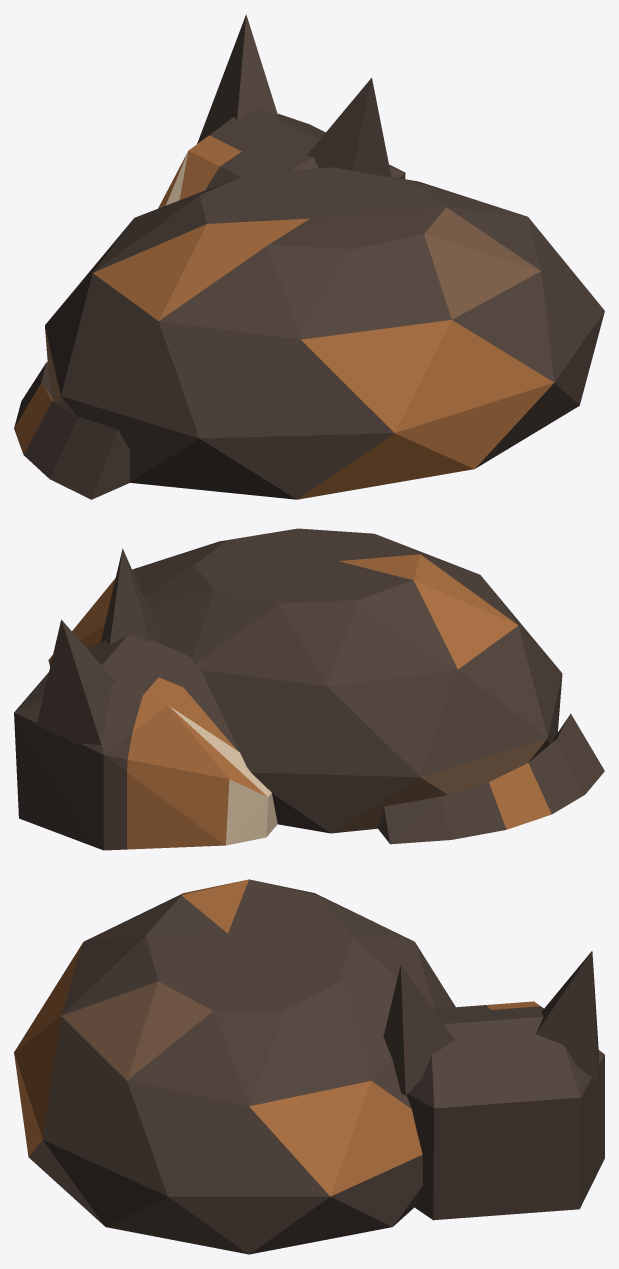
Rendered from chair_cat.glb.
The picture shows the model from 3 angles, top to bottom: view 1: azimuth 30°, elevation 25°; view 2: azimuth 150°, elevation 25°; view 3: azimuth 270°, elevation 25°; orthographic projection. The views are drawn at different scales.
Visible parts, largest first — view 1: ChairCat; view 2: ChairCat; view 3: ChairCat.
Boxes of the visible parts, x1=… form: ChairCat: x1=14, y1=14, x2=604, y2=499; ChairCat: x1=14, y1=528, x2=604, y2=850; ChairCat: x1=14, y1=879, x2=604, y2=1254.
Bounding box in the file's own units: 1.72 × 0.729 × 1.67.
